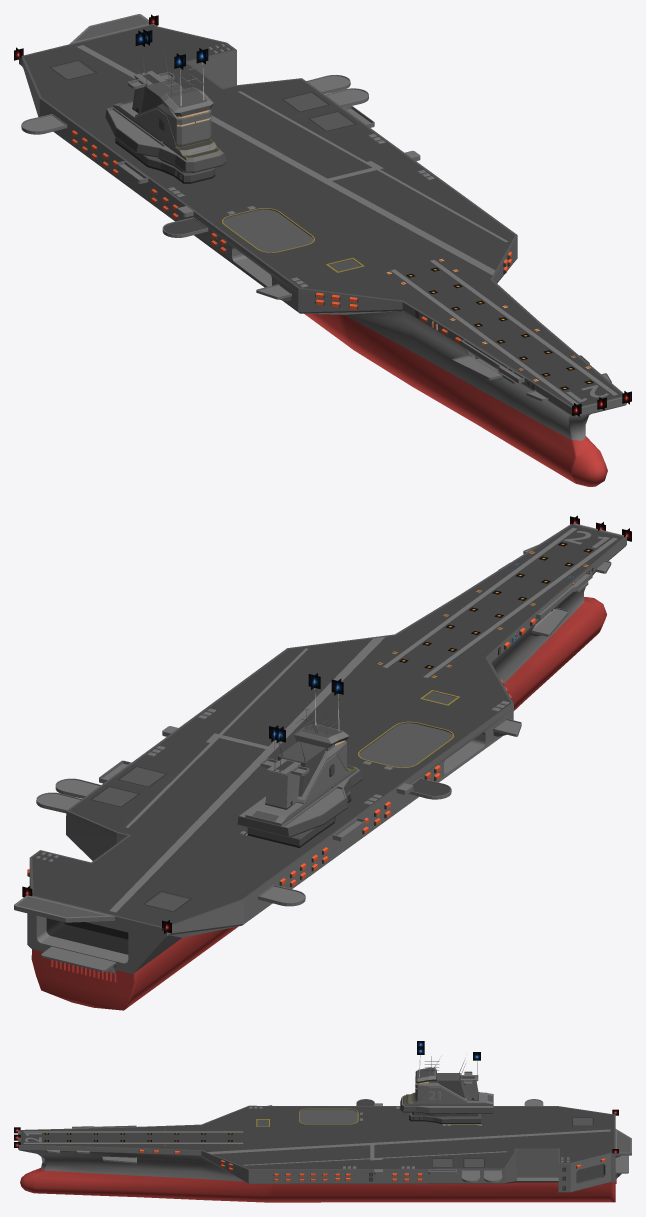
The model's file is model_polyfleet_battleship05.fbx.
3 renders of one model, top to bottom at view 1: azimuth 30°, elevation 25°; view 2: azimuth 150°, elevation 25°; view 3: azimuth 270°, elevation 25°, orthographic. The views are drawn at different scales.
Visible parts, largest first — view 1: model_batteship05, emissivelight; view 2: model_batteship05, emissivelight; view 3: model_batteship05, emissivelight.
Boxes of the visible parts, bbox=[...] form: model_batteship05: bbox=[19, 14, 626, 486]; emissivelight: bbox=[14, 14, 631, 416]; model_batteship05: bbox=[14, 523, 626, 1010]; emissivelight: bbox=[22, 515, 631, 933]; model_batteship05: bbox=[18, 1055, 631, 1202]; emissivelight: bbox=[14, 1041, 618, 1153].
Size of the model in its own units: 7281 by 5134 by 22476.
